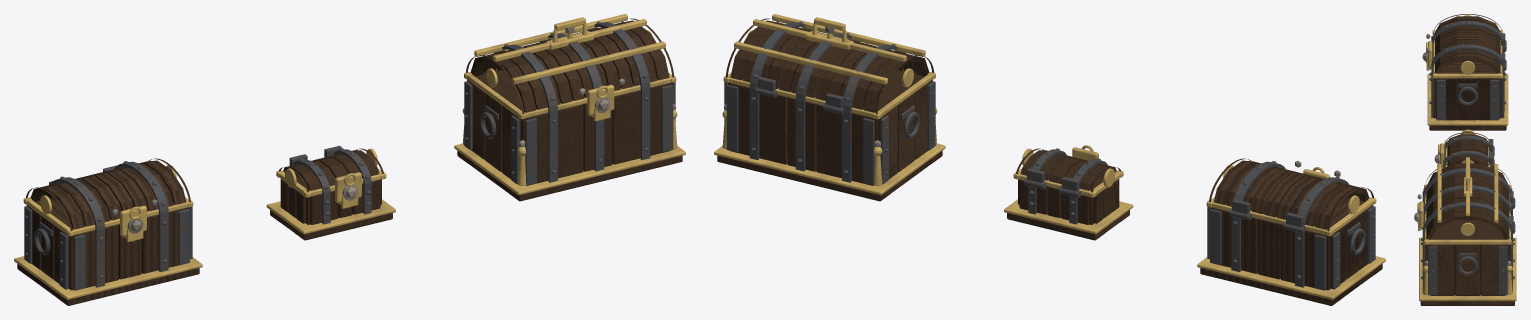
Rendered from reward_chests.glb.
3 views of the same model, side by side, from view 1: azimuth 30°, elevation 25°; view 2: azimuth 150°, elevation 25°; view 3: azimuth 270°, elevation 25° (orthographic). The views are drawn at different scales.
Parts seen in each view (by area): view 1: Chest_Hoard, Chest_Island, Chest_Cache; view 2: Chest_Hoard, Chest_Island, Chest_Cache; view 3: Chest_Hoard, Chest_Island, Chest_Cache.
Boxes of the visible parts, bbox=[...] form: Chest_Hoard: bbox=[454, 14, 685, 201]; Chest_Island: bbox=[14, 158, 202, 305]; Chest_Cache: bbox=[266, 145, 395, 240]; Chest_Hoard: bbox=[714, 14, 945, 201]; Chest_Island: bbox=[1197, 158, 1385, 305]; Chest_Cache: bbox=[1004, 145, 1133, 240]; Chest_Hoard: bbox=[1414, 157, 1516, 305]; Chest_Island: bbox=[1422, 14, 1508, 130]; Chest_Cache: bbox=[1434, 129, 1495, 168].
Bounding box in the file's own units: 6.22 × 1.33 × 1.2.
Materials: 4 (4 with a texture image).
